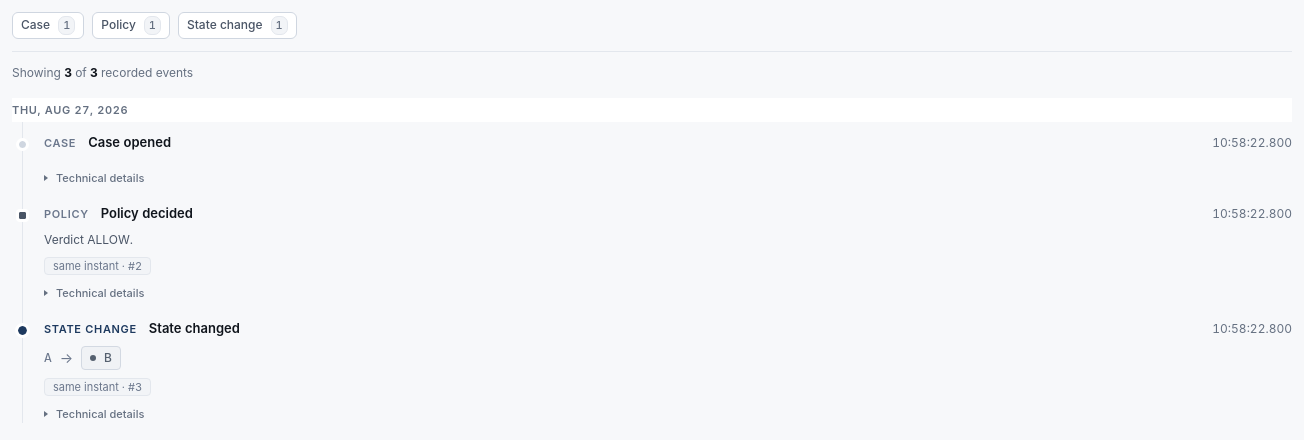
Test: case audit timeline › filters by event class without reordering or inventing rows
Click the button "Policy 1" at (131, 25), box [92,12,170,38]
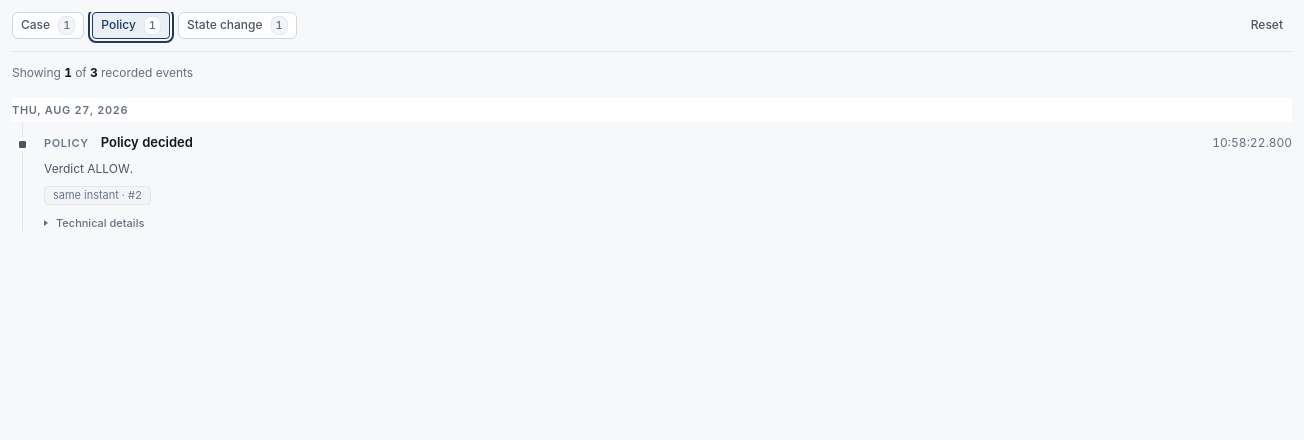
Expected: the headings read "Policy decided", in this order, [101,134,193,150]
Expected: the message shows "Showing 1 of 3", [12,64,193,80]
